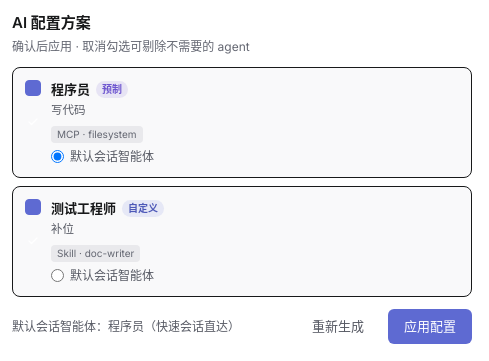
PlanPreviewStep › 取消全部勾选 → 应用按钮禁用；默认单选随勾选收缩回退
Step 1. Click the checkbox named "启用 测试工程师" → (33, 207), box top-left (25, 199), bottom-right (41, 215)
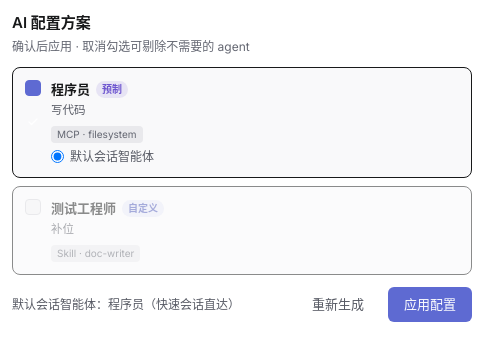
Step 2. Click the checkbox named "启用 程序员" → (33, 88), box top-left (25, 80), bottom-right (41, 96)
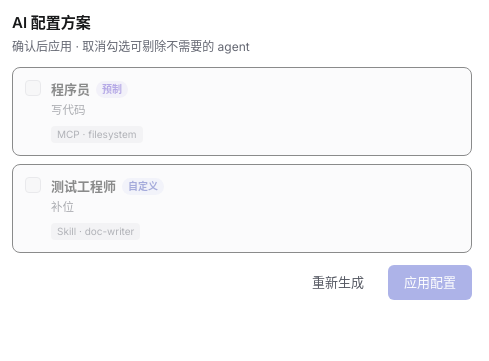
Now the button "应用配置" is disabled, box top-left (388, 265), bottom-right (472, 300)
